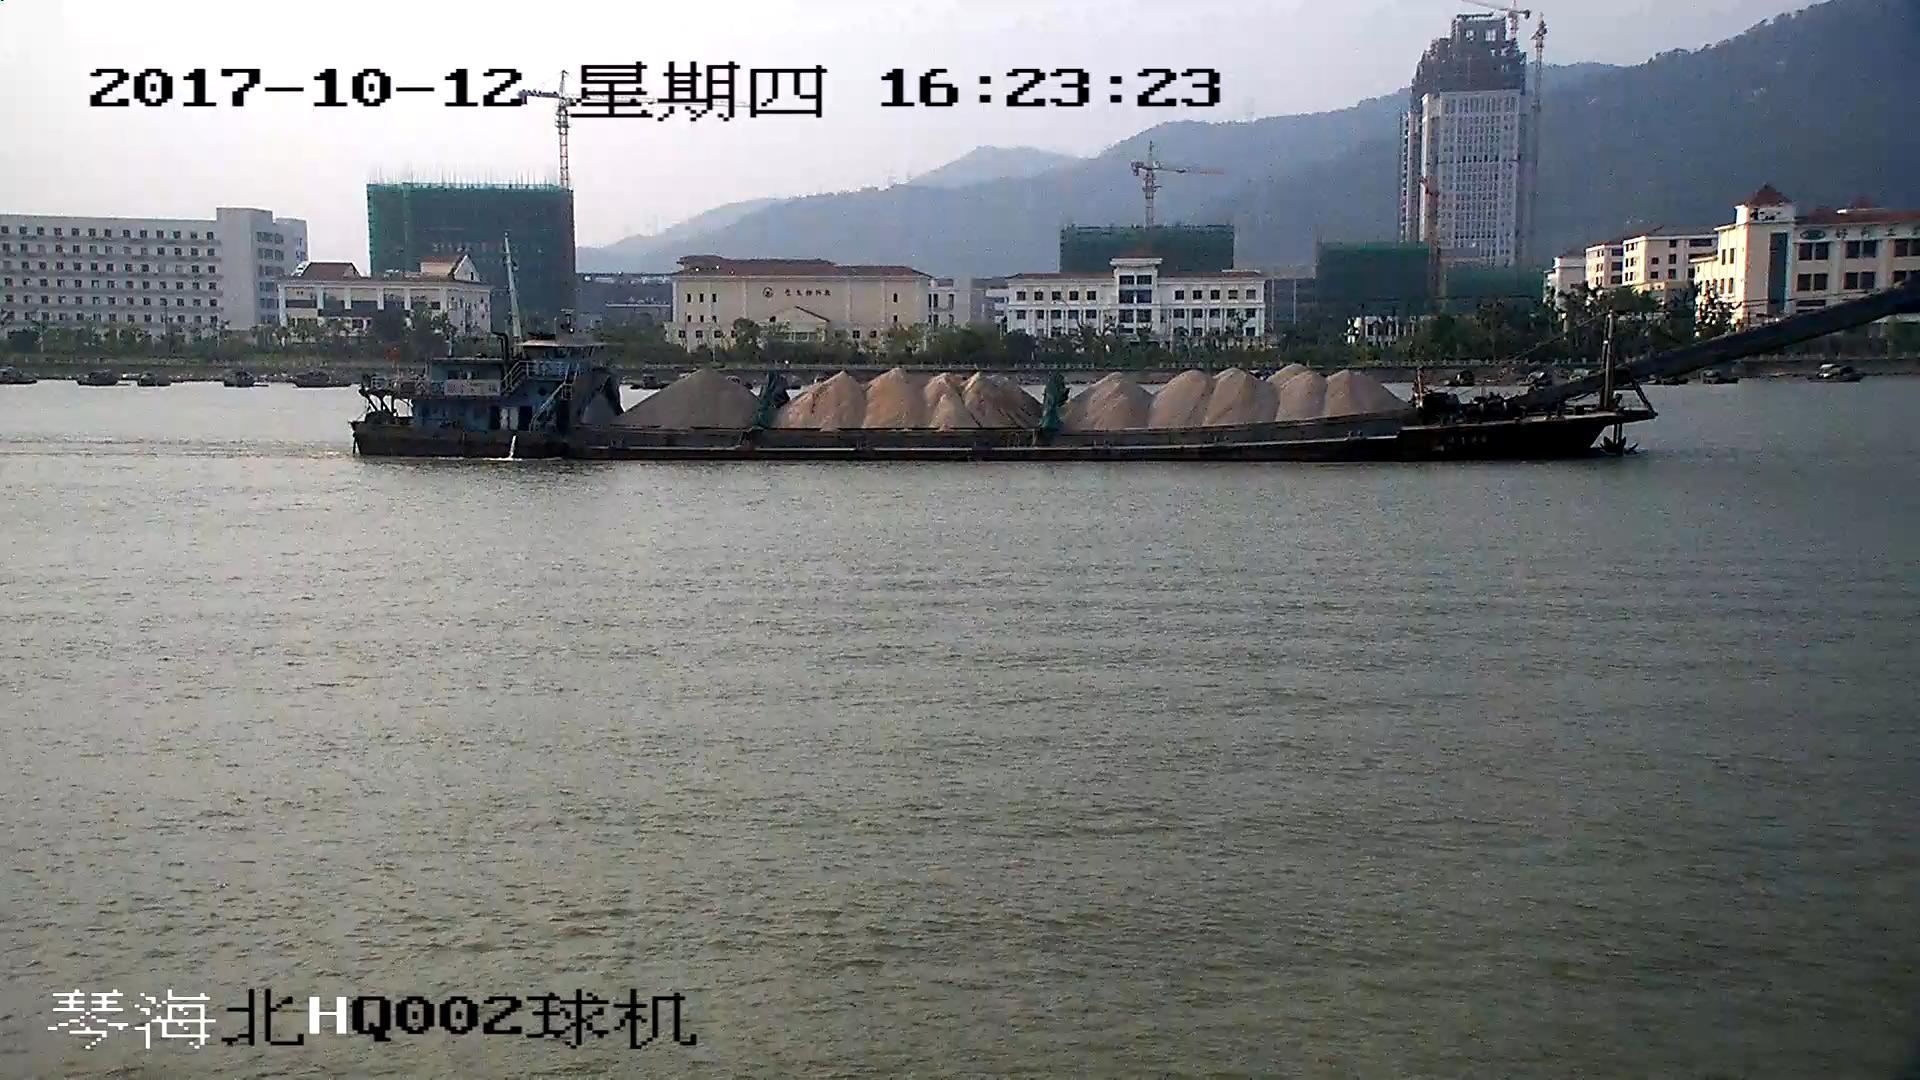Ship: (352, 280, 1920, 465)
